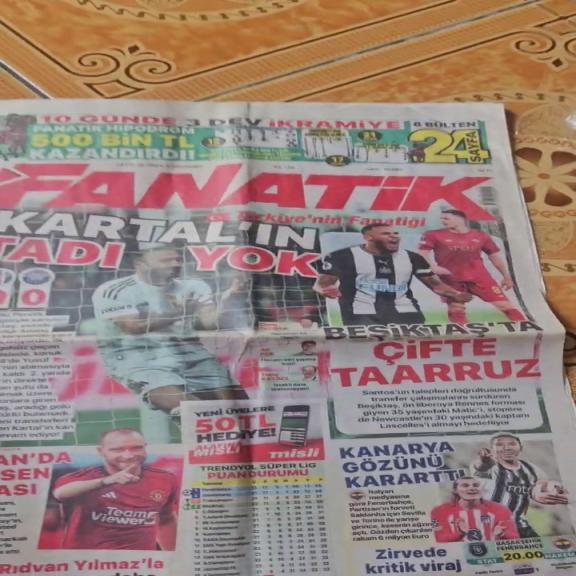Kertas: (1, 104, 505, 372), (4, 334, 562, 570)
